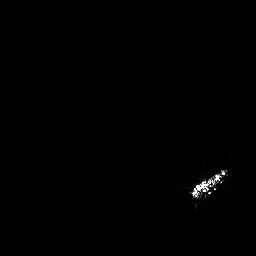ship: (186, 163, 233, 203)
